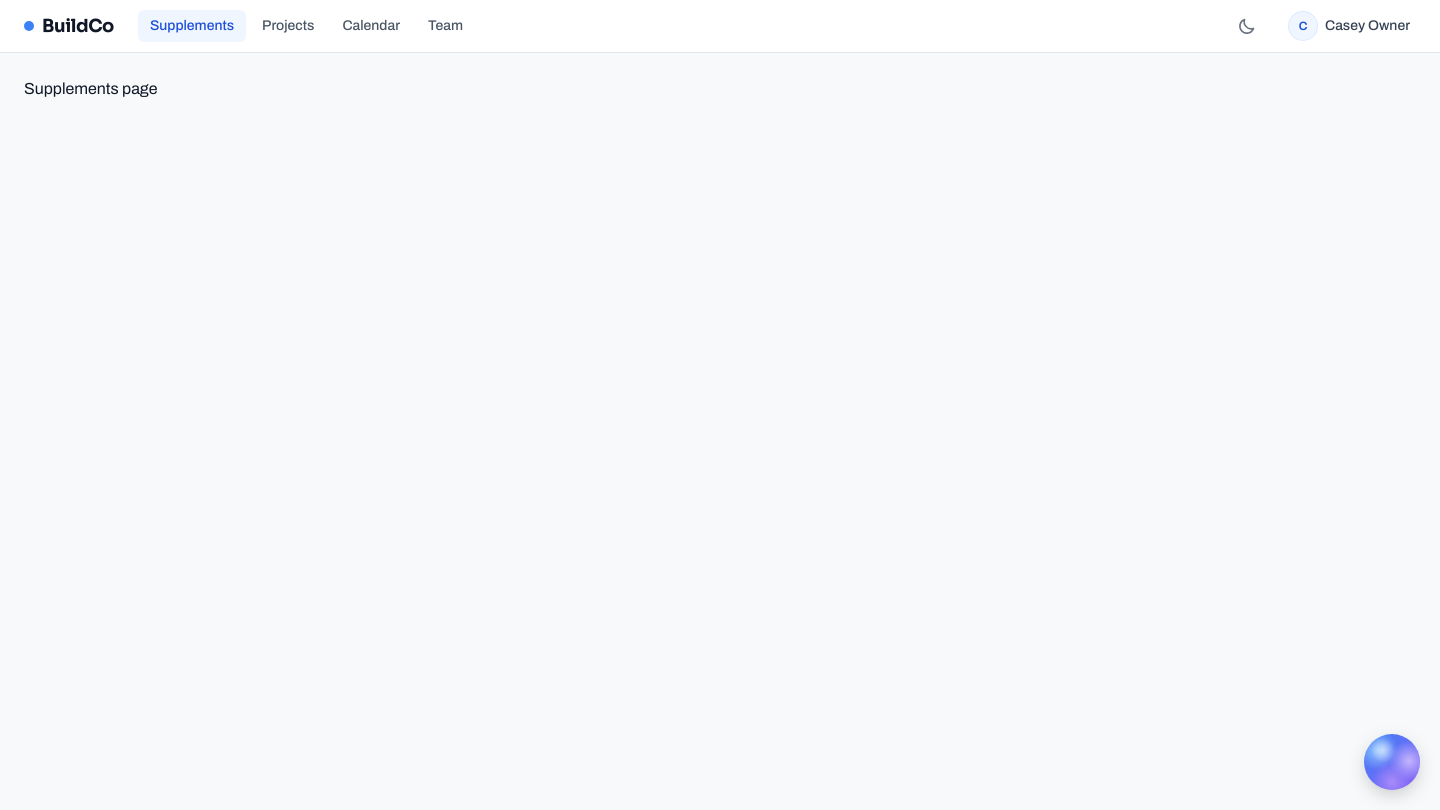
Test case: BuildCo Assistant in the shell › starting › starts without the microphone when the first thing the user does is type
Click the button named "Ask BuildCo Assistant": point(1392, 762) [1364,734,1420,790]
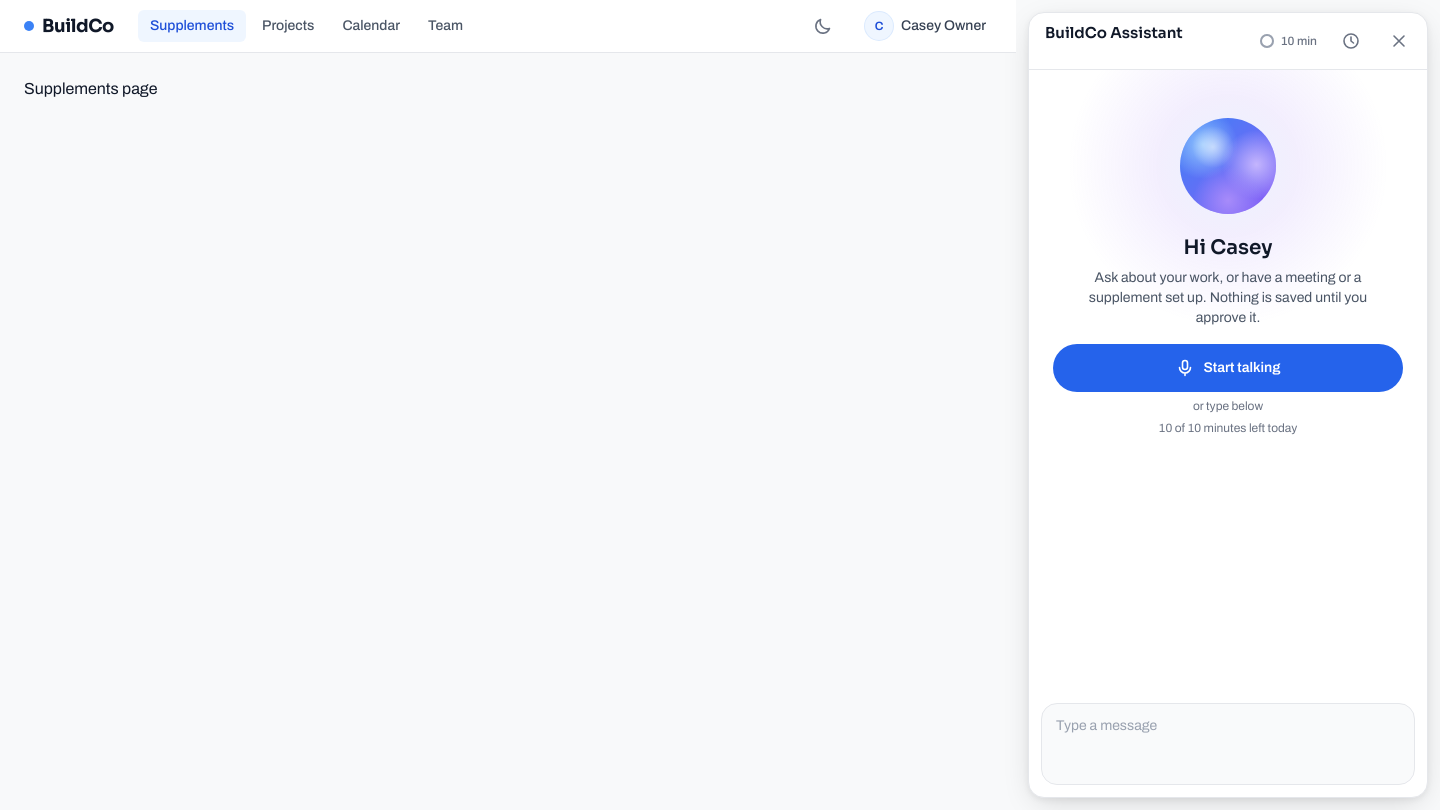
In the text box named "Message the assistant": point(1228, 722) [1042,704,1414,740], type "book a meeting"
Then press Enter
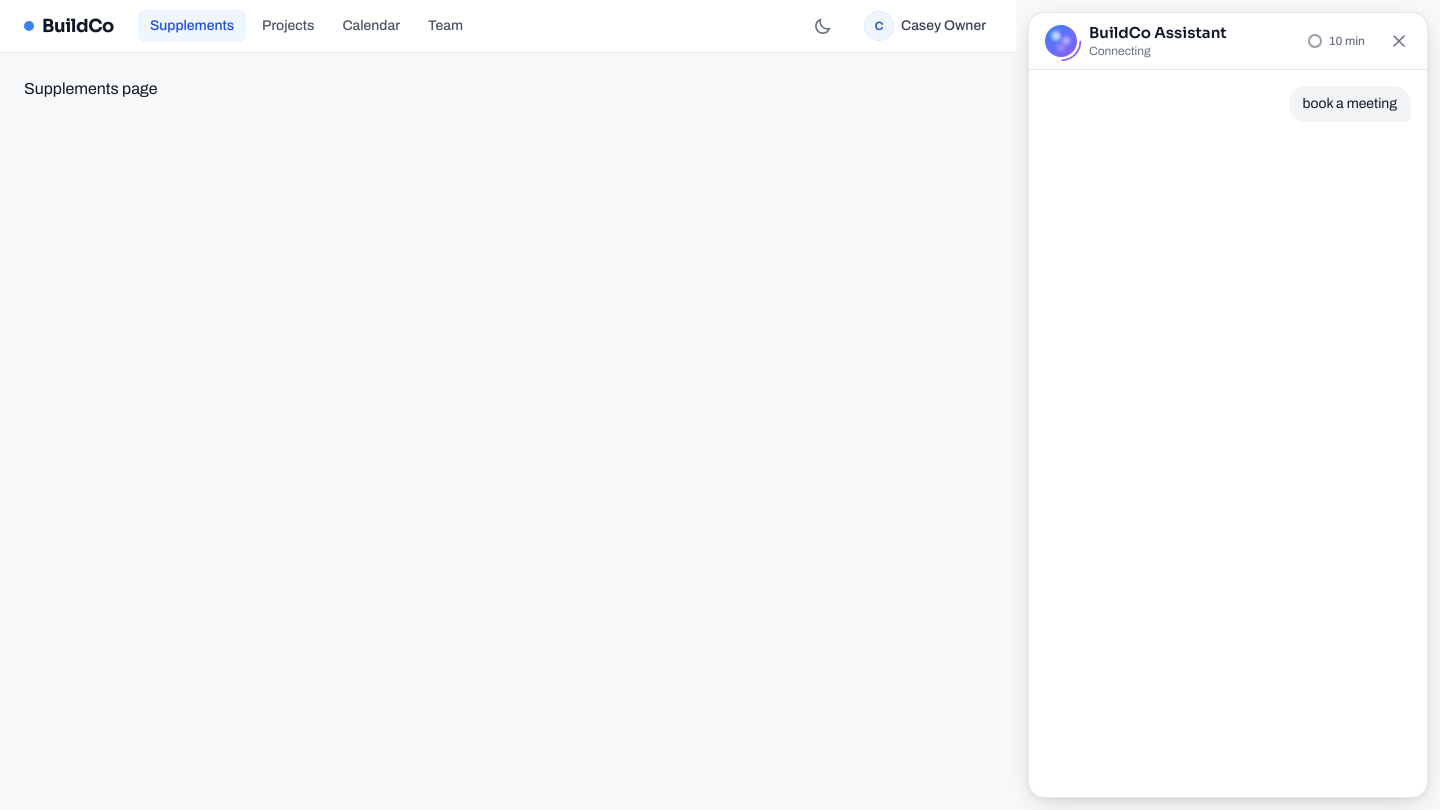
Result: the text "book a meeting" is shown at [1288,86,1411,122]
